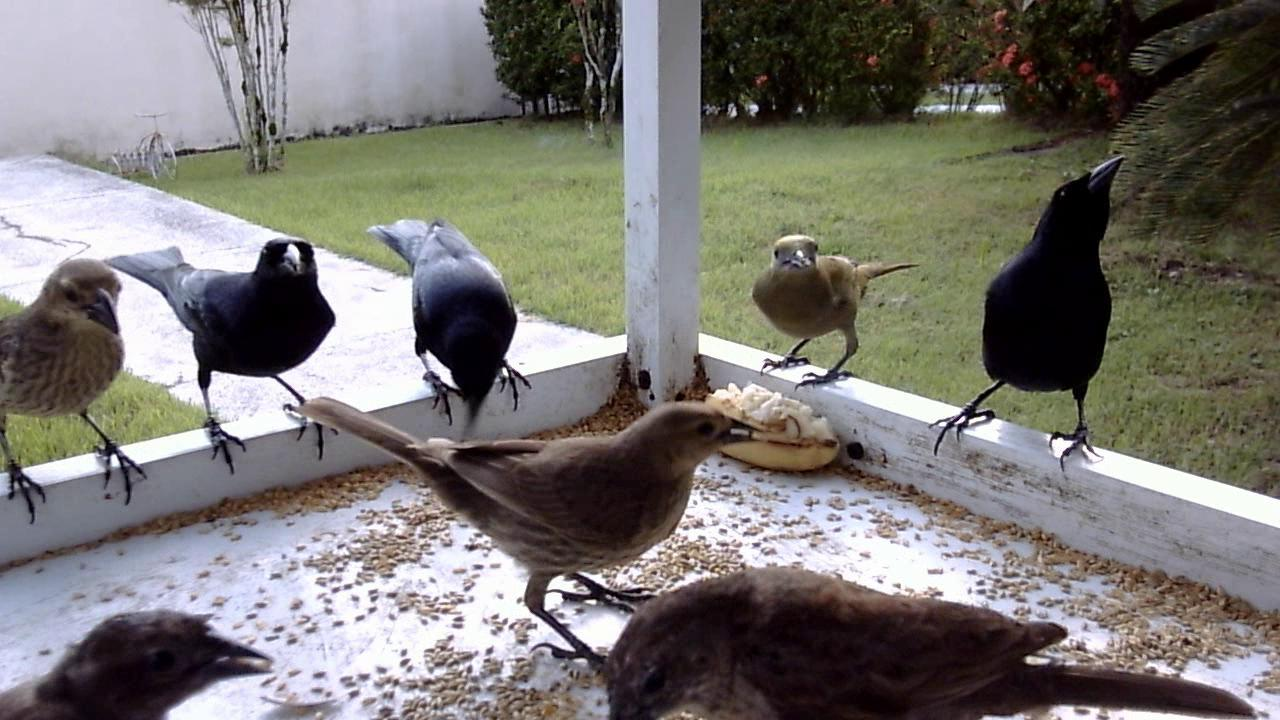chupim: (277, 387, 767, 682), (591, 546, 1276, 718), (920, 144, 1136, 493), (96, 220, 351, 488), (1, 252, 156, 537), (359, 207, 537, 437), (4, 601, 280, 718)
sanhaco_do_coqueiro: (745, 228, 930, 397)
